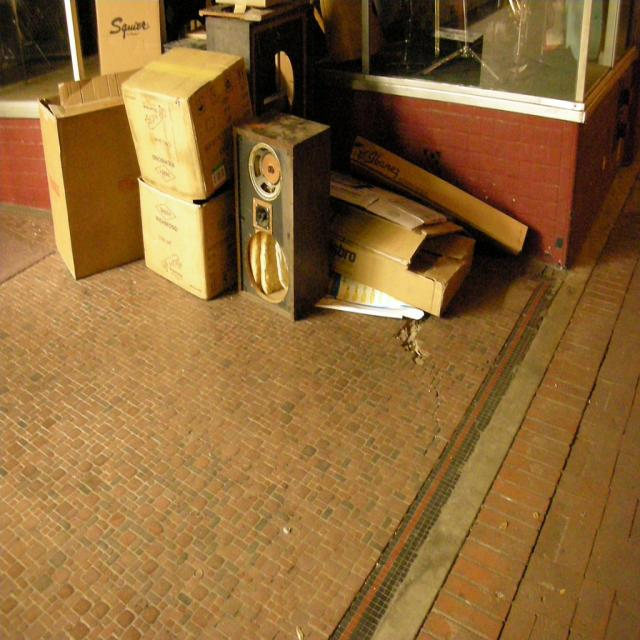Box: (39, 64, 150, 281), (120, 45, 253, 198), (136, 179, 236, 304), (94, 0, 167, 77)
